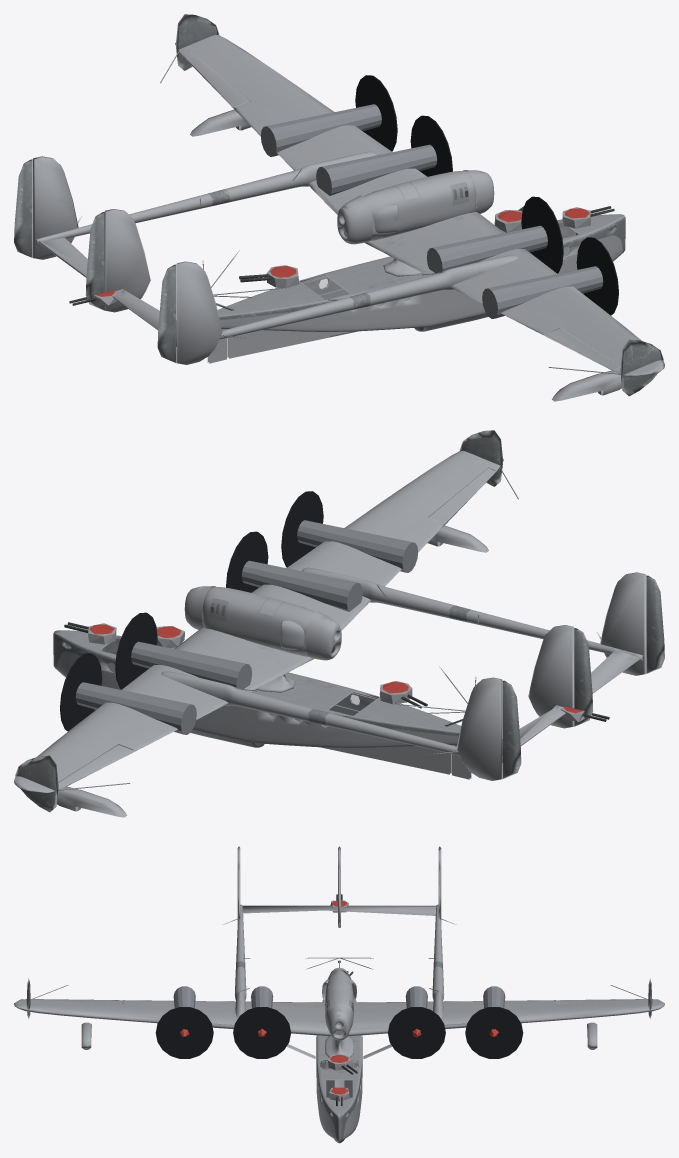
File: fh_battle_e_albatross.glb
The picture shows the model from 3 angles, top to bottom: view 1: azimuth 30°, elevation 25°; view 2: azimuth 150°, elevation 25°; view 3: azimuth 270°, elevation 25°; orthographic projection. The views are drawn at different scales.
Visible parts, largest first — view 1: body; view 2: body; view 3: body.
Boxes of the visible parts, box(x1,y1,x2,y2) form: body: box(14, 14, 664, 401); body: box(14, 430, 664, 817); body: box(14, 846, 664, 1143).
Bounding box in the file's own units: 1 × 0.3381 × 1.46.
7 materials, 1 textured.
